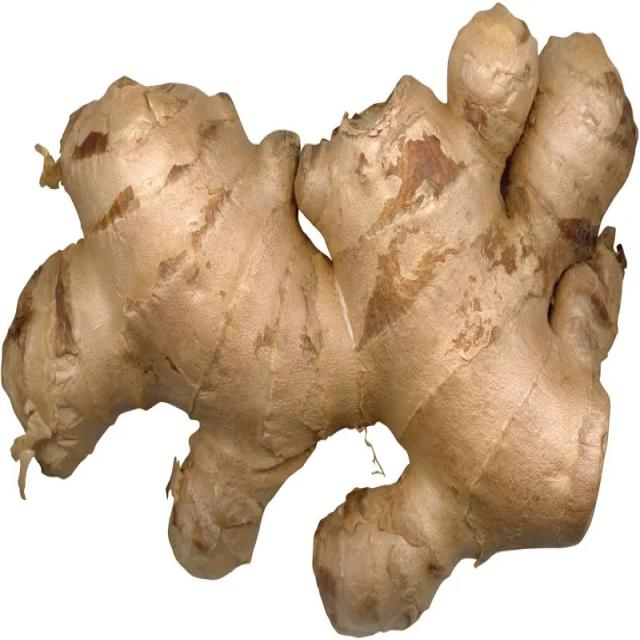ginger-root: (8, 3, 640, 640)
